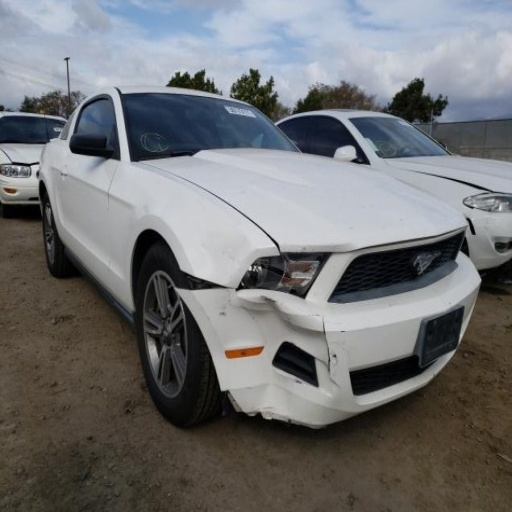dent: (227, 297, 335, 420), (202, 230, 256, 280), (280, 244, 356, 253), (131, 205, 151, 225)
